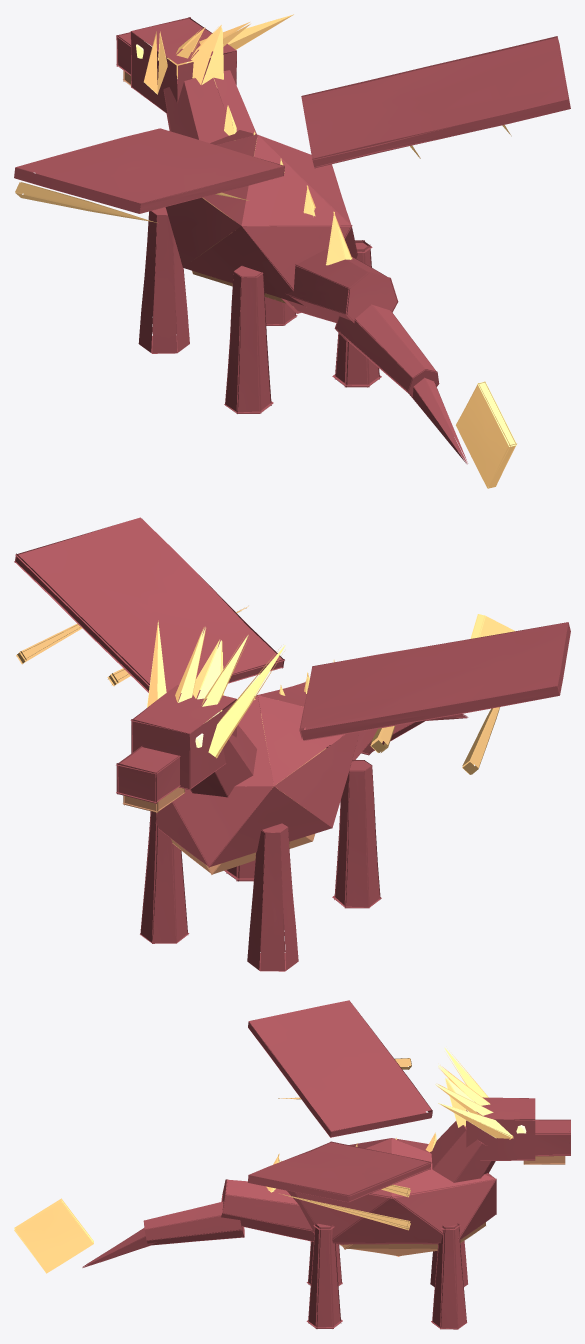
Rendered from dragon_elder.glb.
The picture shows the model from 3 angles, top to bottom: view 1: azimuth 30°, elevation 25°; view 2: azimuth 150°, elevation 25°; view 3: azimuth 270°, elevation 25°; orthographic projection. The views are drawn at different scales.
Parts seen in each view (by area): view 1: DragonBody; view 2: DragonBody; view 3: DragonBody.
Boxes of the visible parts, bbox=[...] form: DragonBody: bbox=[14, 14, 570, 488]; DragonBody: bbox=[14, 517, 570, 971]; DragonBody: bbox=[14, 1000, 570, 1329].
Bounding box in the file's own units: 5.25 × 2.93 × 6.29.
